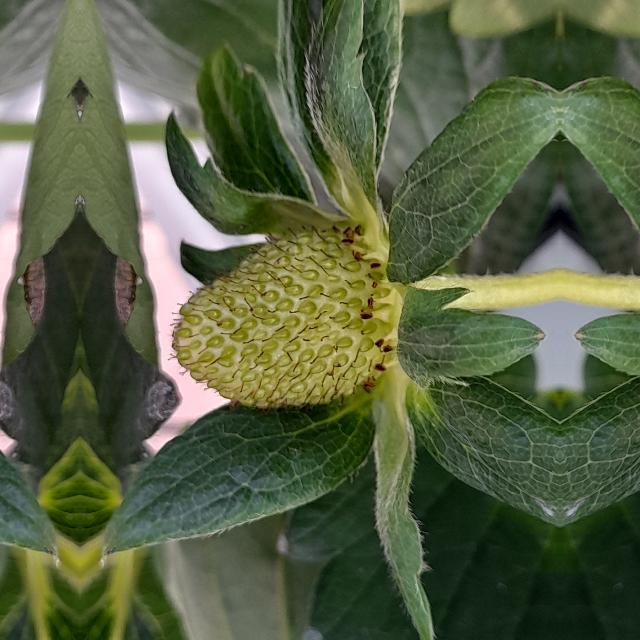Health_25: (167, 224, 387, 412)
